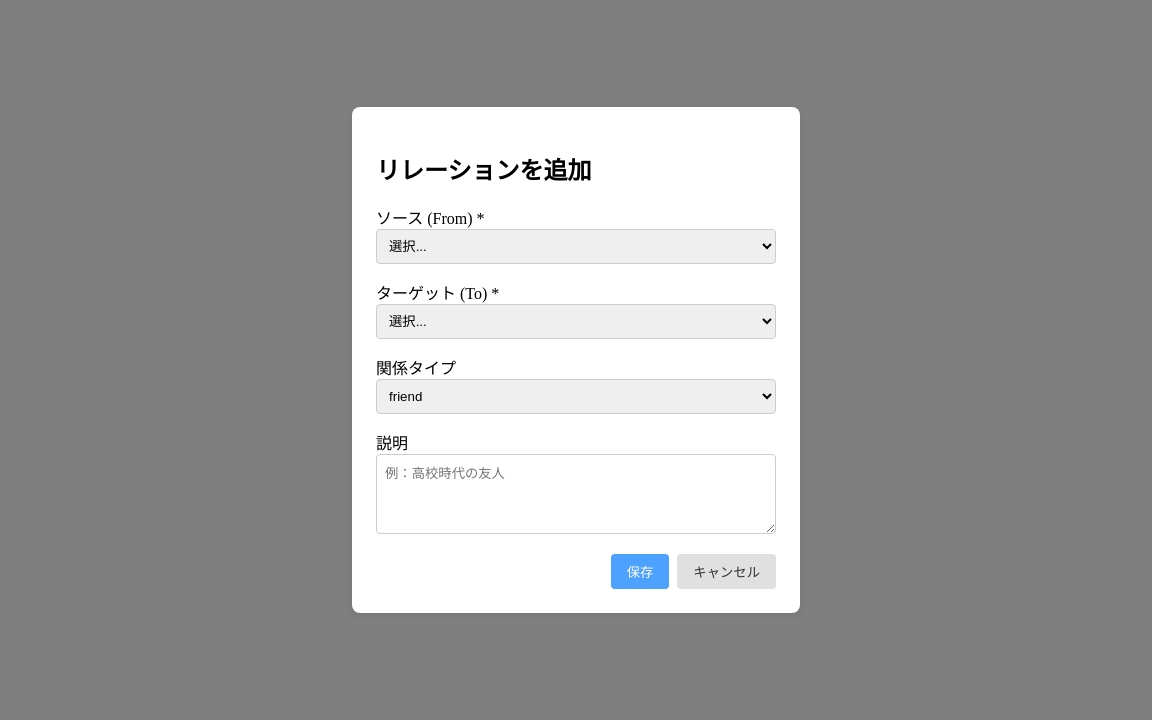
it: RelationModal › shows error when source and target are the same
Select "Alice" in the dropdown below "ソース (From) *" at (576, 247), box x1=376 y1=229 x2=776 y2=264
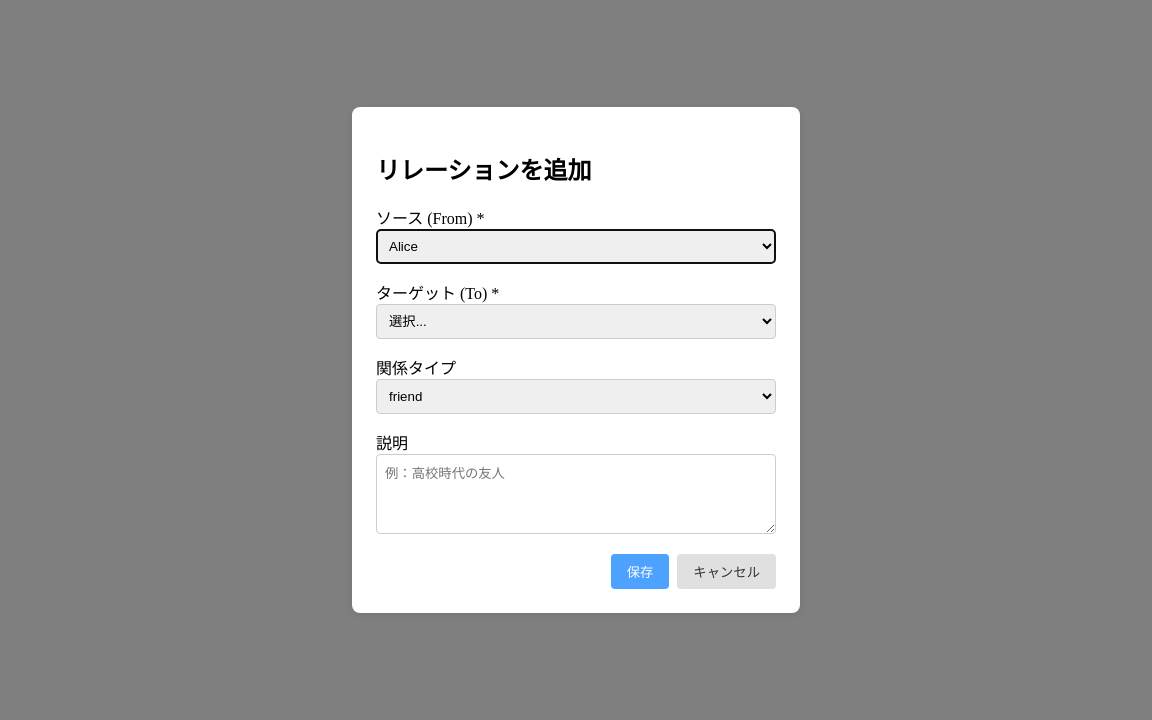
Select "Alice" in the dropdown below "ターゲット (To) *" at (576, 322), box x1=376 y1=304 x2=776 y2=339
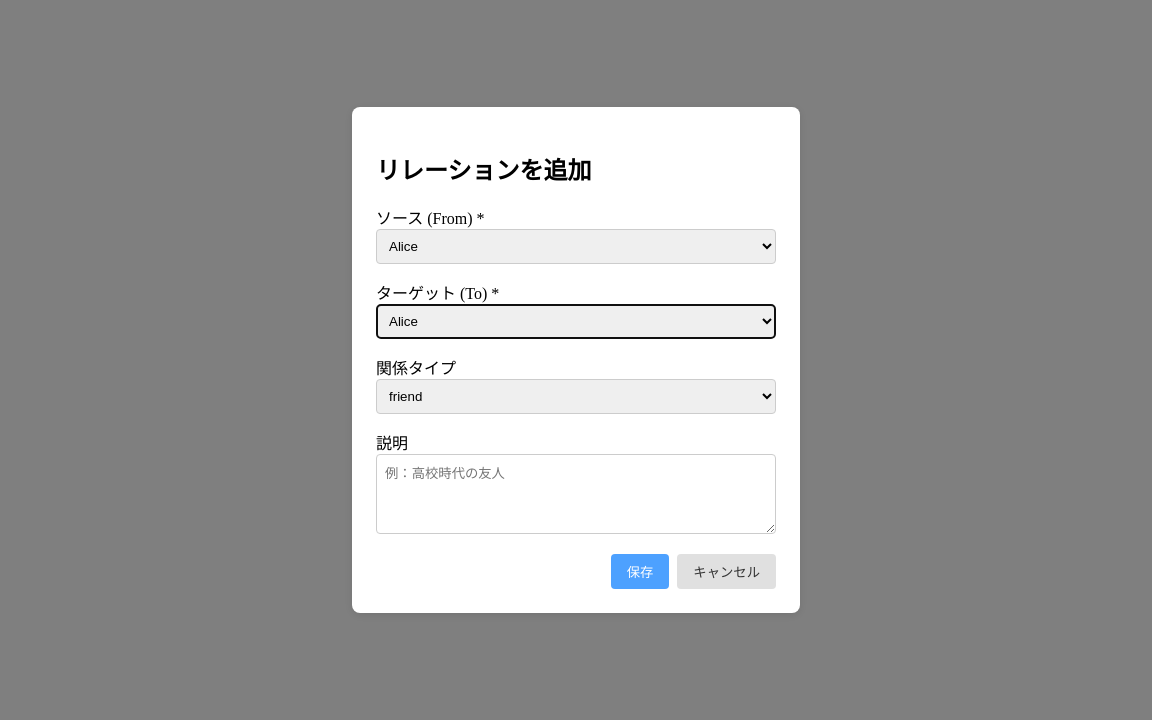
Click the button "保存" at (640, 572), box x1=611 y1=554 x2=669 y2=589
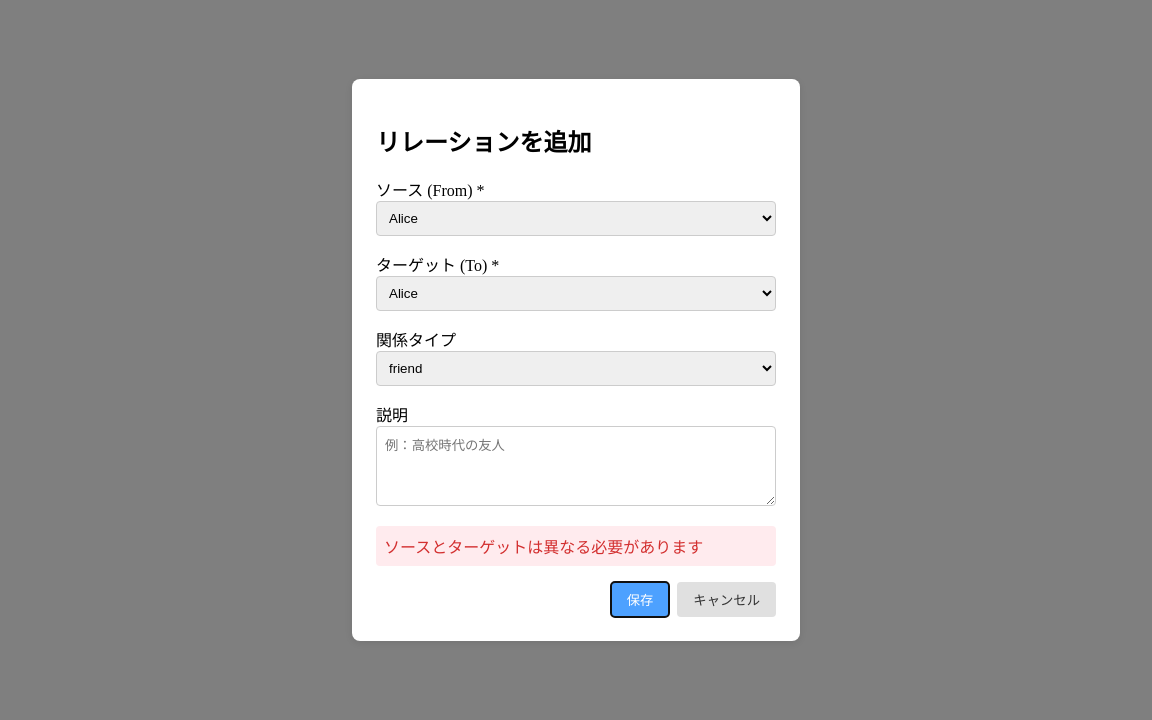
Now the text "ソースとターゲットは異なる必要があります" is shown, box x1=376 y1=526 x2=776 y2=566
